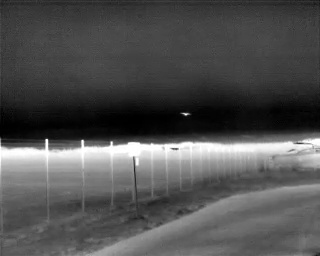AIRPLANE: (179, 109, 192, 119)
